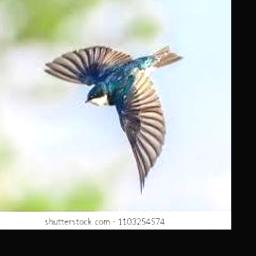Swallow: (44, 44, 184, 194)
